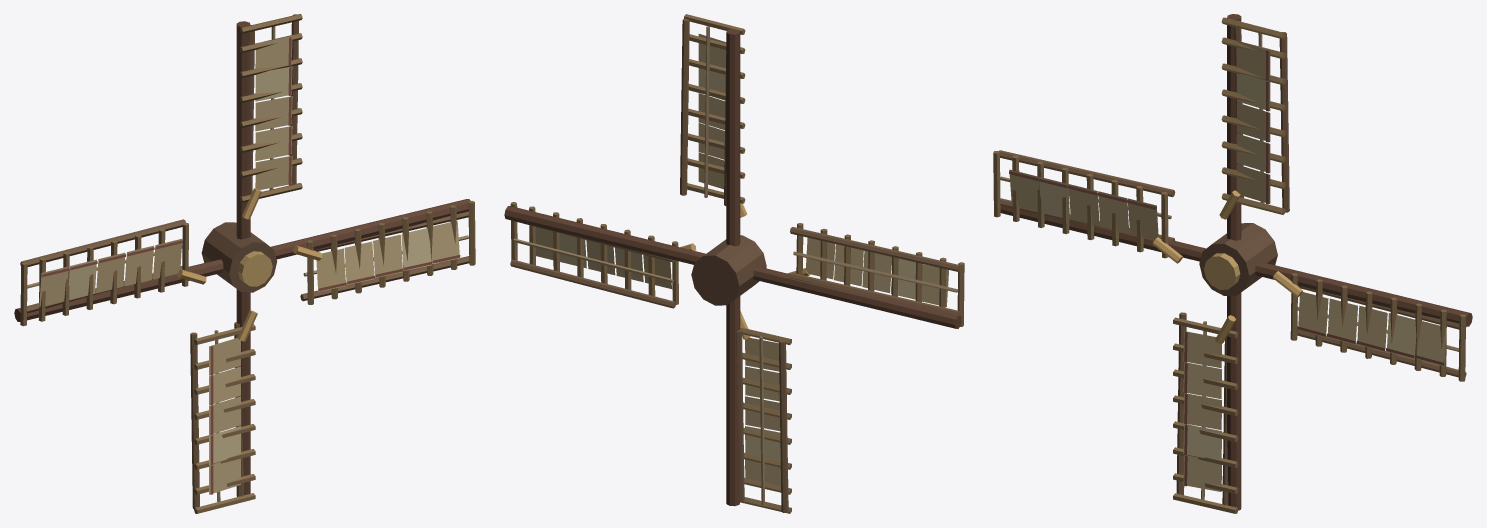
Rendered from windmill_sails.glb.
The picture shows the model from 3 angles, left to right: view 1: azimuth 30°, elevation 25°; view 2: azimuth 150°, elevation 25°; view 3: azimuth 330°, elevation 25°; orthographic projection. The views are drawn at different scales.
Visible parts, largest first — view 1: windmill_sails; view 2: windmill_sails; view 3: windmill_sails.
Part boxes in pixels (<box>): windmill_sails: <box>14,14,475,513</box>; windmill_sails: <box>504,14,964,513</box>; windmill_sails: <box>993,14,1472,513</box>.
Bounding box in the file's own units: 2.47 × 2.47 × 0.3.
